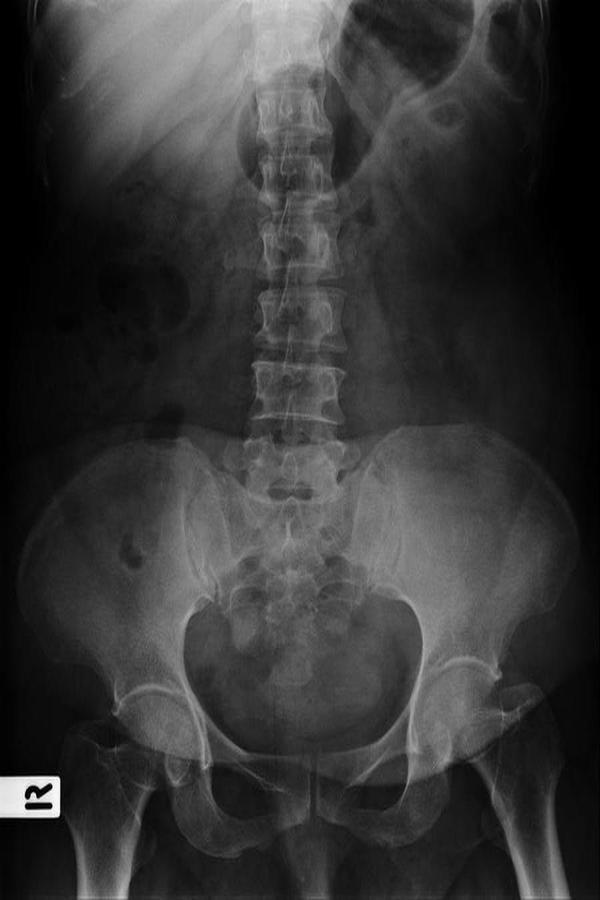lumbar scoliosis: (240, 6, 357, 552)
